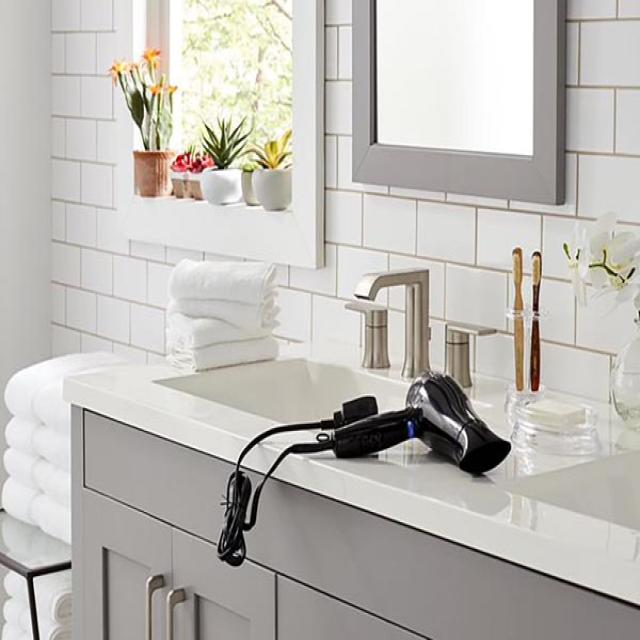dryer: (212, 350, 540, 576), (317, 361, 520, 501)
